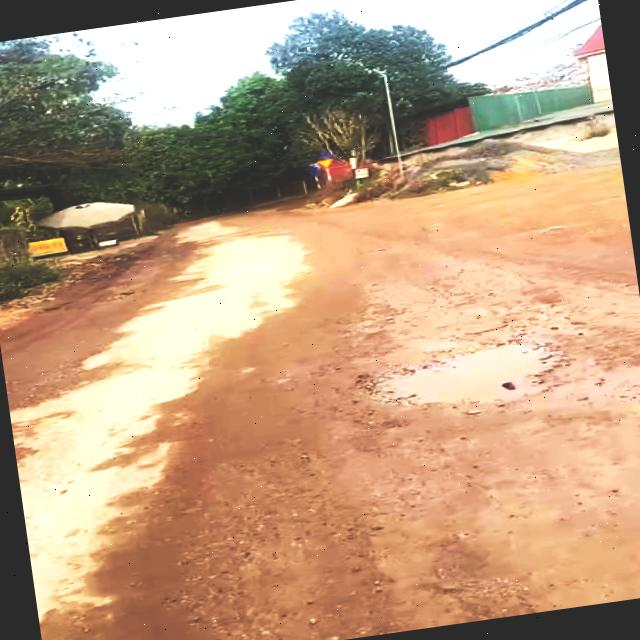pothole: (357, 324, 574, 425)
